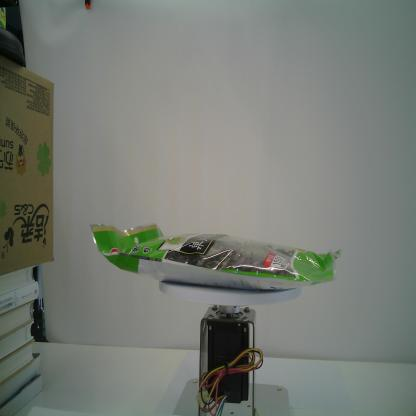Dried Food: (88, 221, 344, 292)
